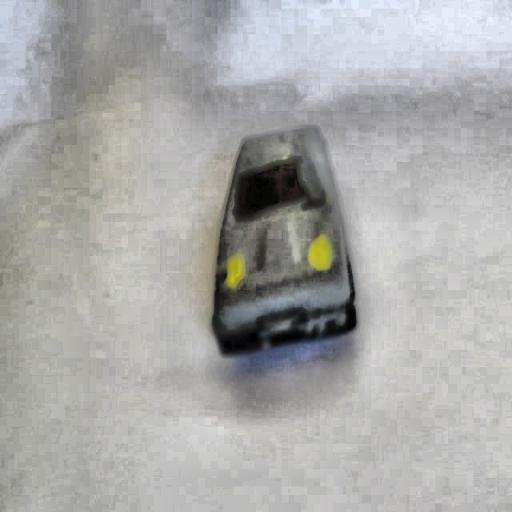normal_car: (212, 126, 361, 366)
